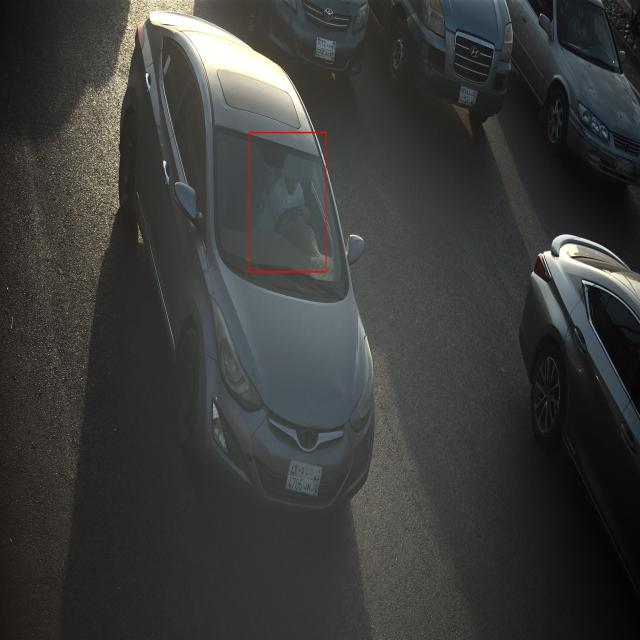windshield: (208, 119, 350, 304)
